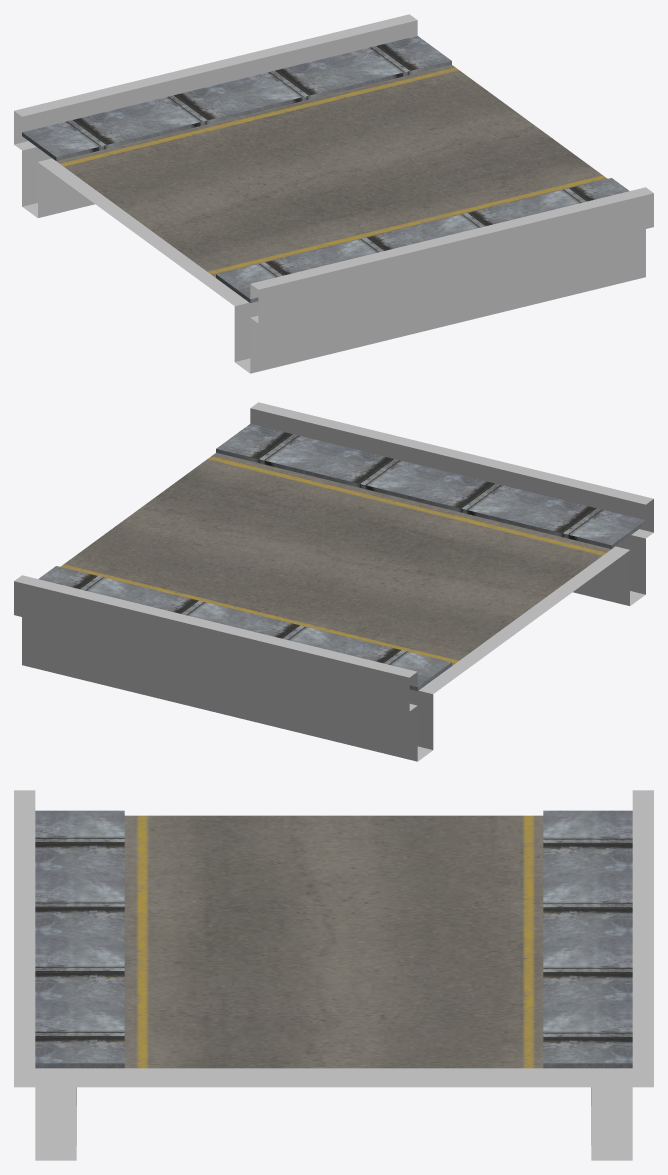
Rendered from Urban_Road2BridgeSegment_Model.fbx.
3 renders of one model, top to bottom at view 1: azimuth 30°, elevation 25°; view 2: azimuth 150°, elevation 25°; view 3: azimuth 270°, elevation 25°, orthographic. The views are drawn at different scales.
Visible parts, largest first — view 1: Urban_Road2BridgeSegment_Mesh; view 2: Urban_Road2BridgeSegment_Mesh; view 3: Urban_Road2BridgeSegment_Mesh.
Boxes of the visible parts, x1=… form: Urban_Road2BridgeSegment_Mesh: x1=14, y1=14, x2=653, y2=373; Urban_Road2BridgeSegment_Mesh: x1=14, y1=402, x2=653, y2=761; Urban_Road2BridgeSegment_Mesh: x1=14, y1=790, x2=653, y2=1160.
Bounding box in the file's own units: 16 × 3.48 × 17.13.
